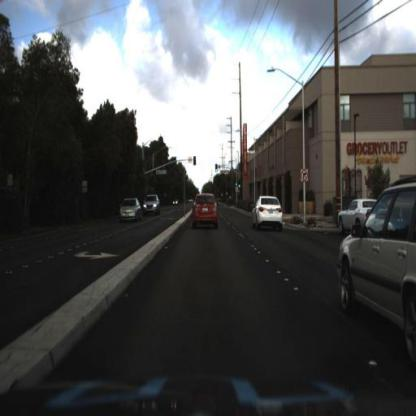car: (329, 184, 416, 385), (187, 189, 230, 238), (249, 191, 286, 239), (334, 197, 374, 235), (117, 195, 147, 224), (116, 197, 144, 226), (142, 192, 162, 218), (145, 195, 162, 216)
trafficLight-Green: (213, 161, 223, 181), (235, 181, 239, 193), (239, 181, 243, 193)
